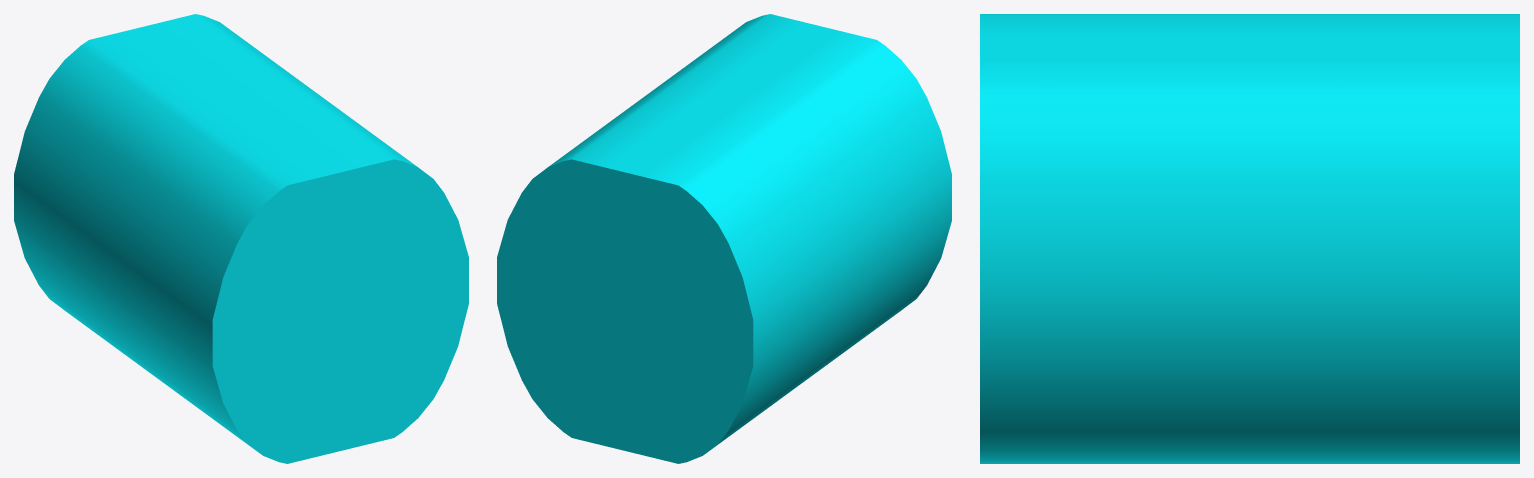
Rendered from Shotgun_Bullet.fbx.
The picture shows the model from 3 angles, left to right: view 1: azimuth 30°, elevation 25°; view 2: azimuth 150°, elevation 25°; view 3: azimuth 270°, elevation 25°; orthographic projection. The views are drawn at different scales.
Parts seen in each view (by area): view 1: Shotgun_Bullet; view 2: Shotgun_Bullet; view 3: Shotgun_Bullet.
Boxes of the visible parts, box(x1,y1,x2,y2) form: Shotgun_Bullet: box(14, 14, 468, 463); Shotgun_Bullet: box(497, 14, 951, 463); Shotgun_Bullet: box(980, 14, 1519, 463).
Bounding box in the file's own units: 6.19 × 6.43 × 8.31.
